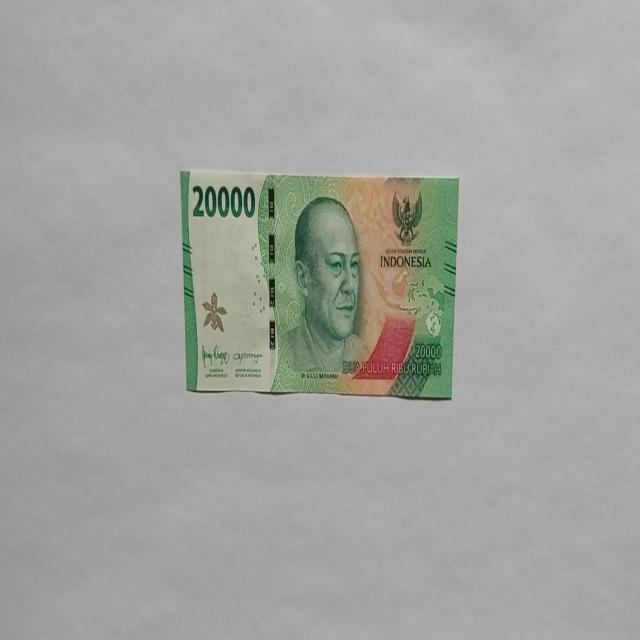dua puluh ribu rupiah: (178, 167, 460, 399)
